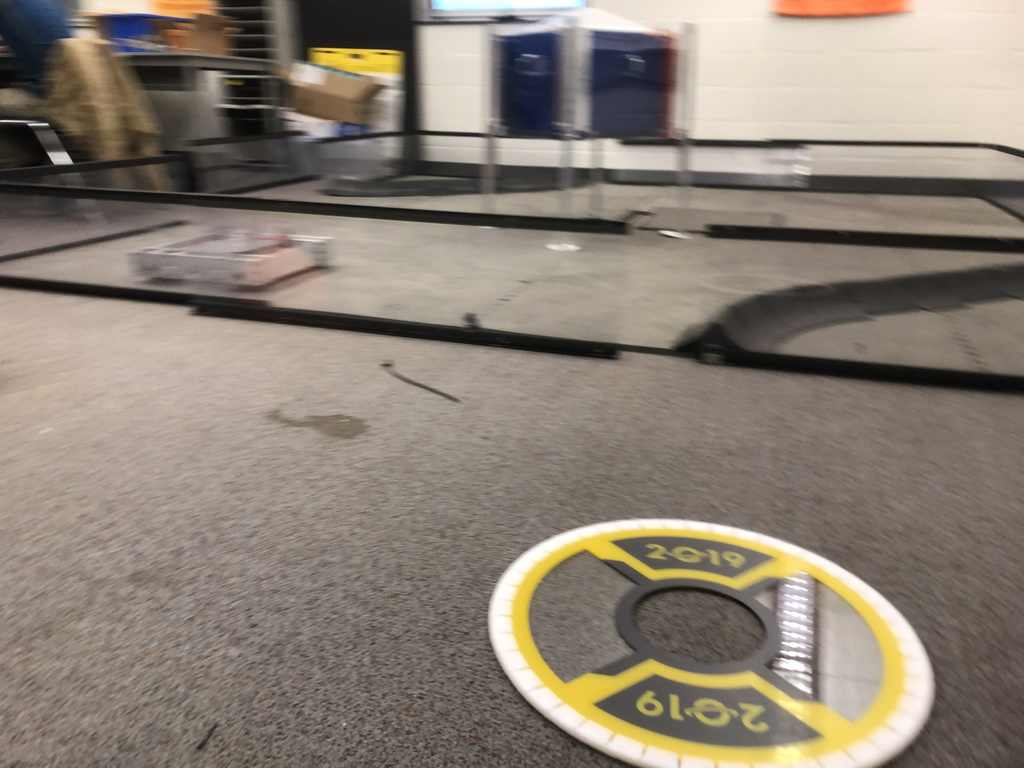hatch_panel: (475, 497, 963, 768)
